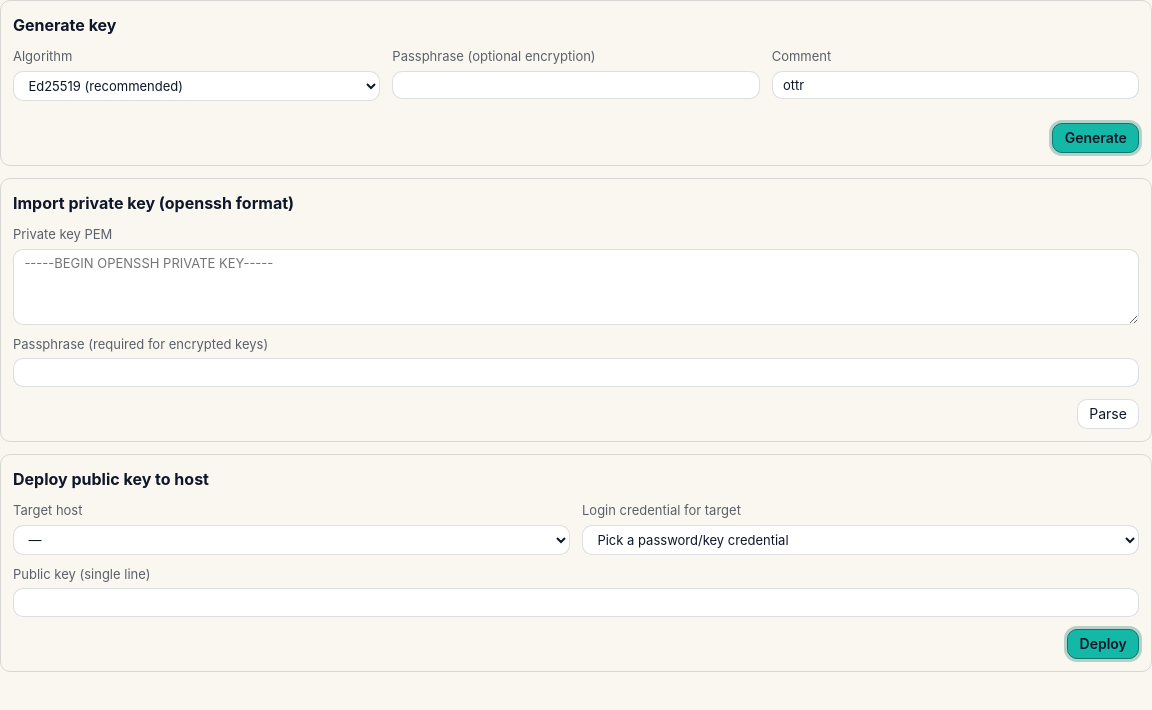
KeyManager › 导出未加密钥：显式点击 → 确认 → key_export；导出前有 inspect 校验的可选项不发
Click the button with test id "km-generate" at x=1096, y=138, box [1052, 123, 1139, 153]
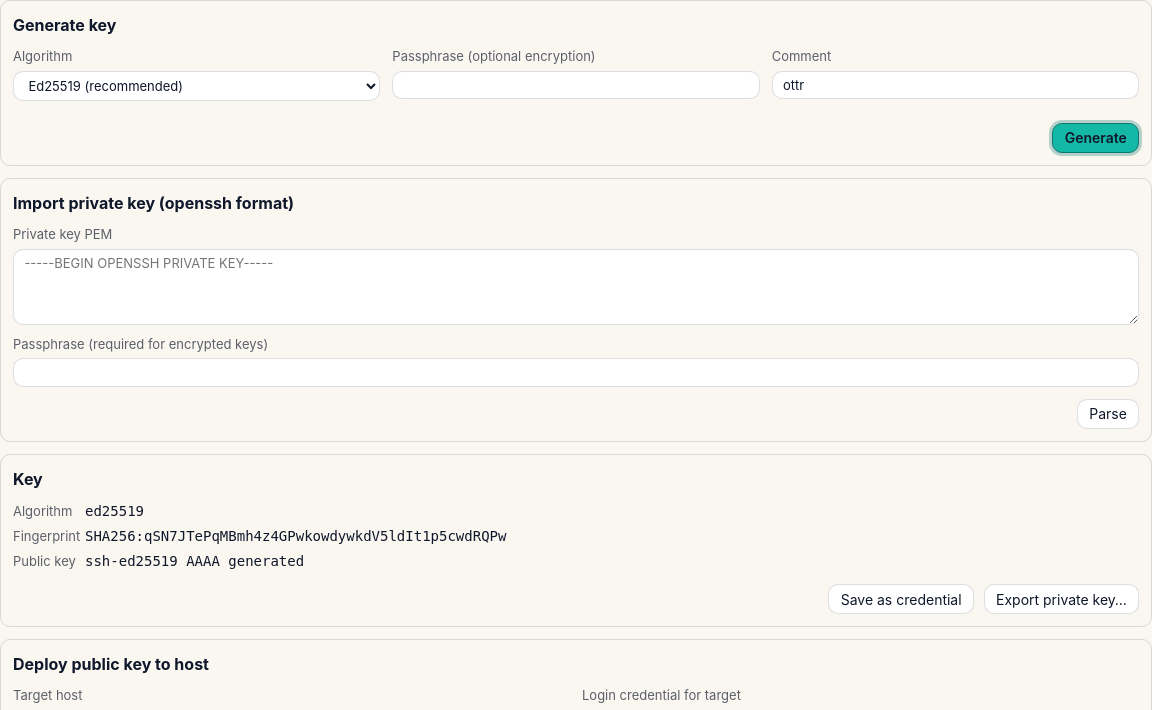
Now the element with test id "km-result" is shown, box [0, 454, 1151, 627]
Click the button with test id "km-export" at x=1061, y=599, box [984, 584, 1139, 614]
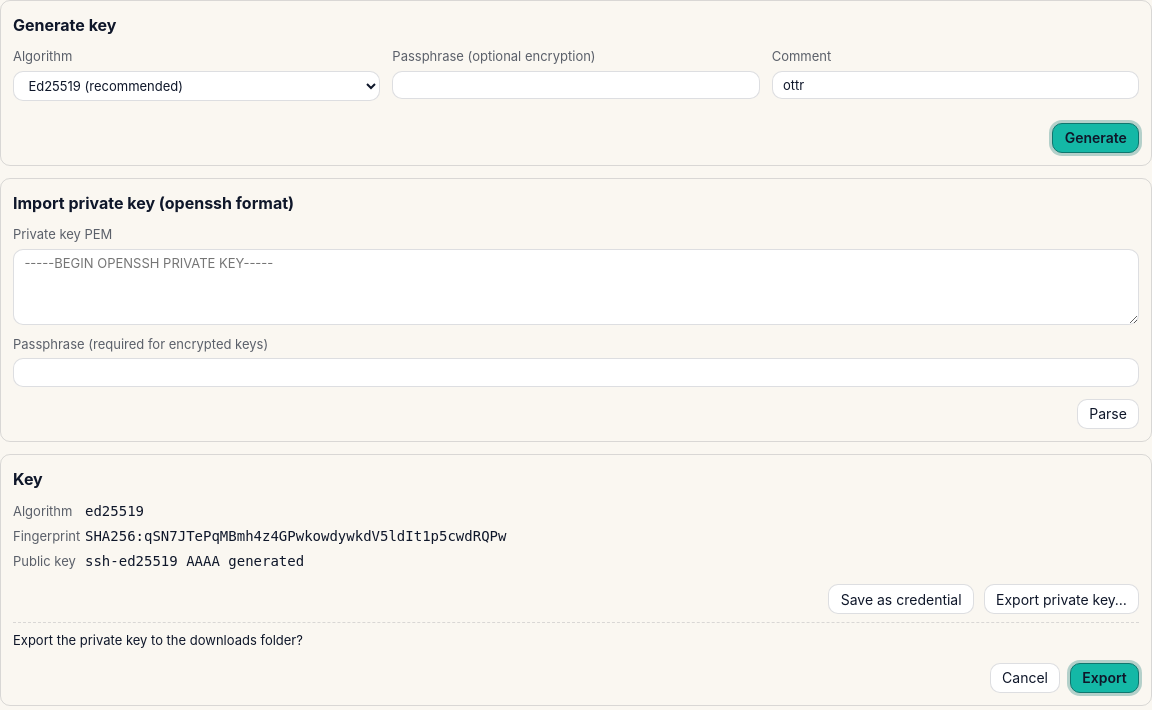
Click the button with test id "km-export-do" at x=1105, y=678, box [1070, 663, 1139, 693]
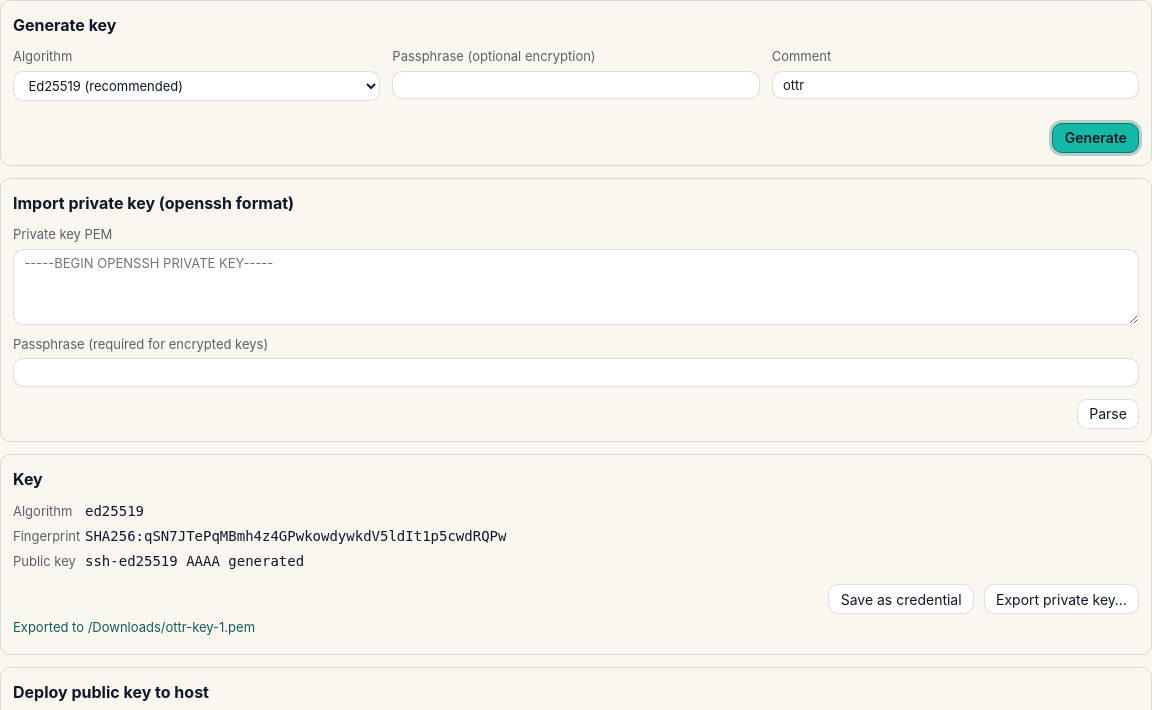
Now the text with test id "km-exported" shows "/Downloads/ottr-key-1.pem", box [13, 619, 255, 635]
